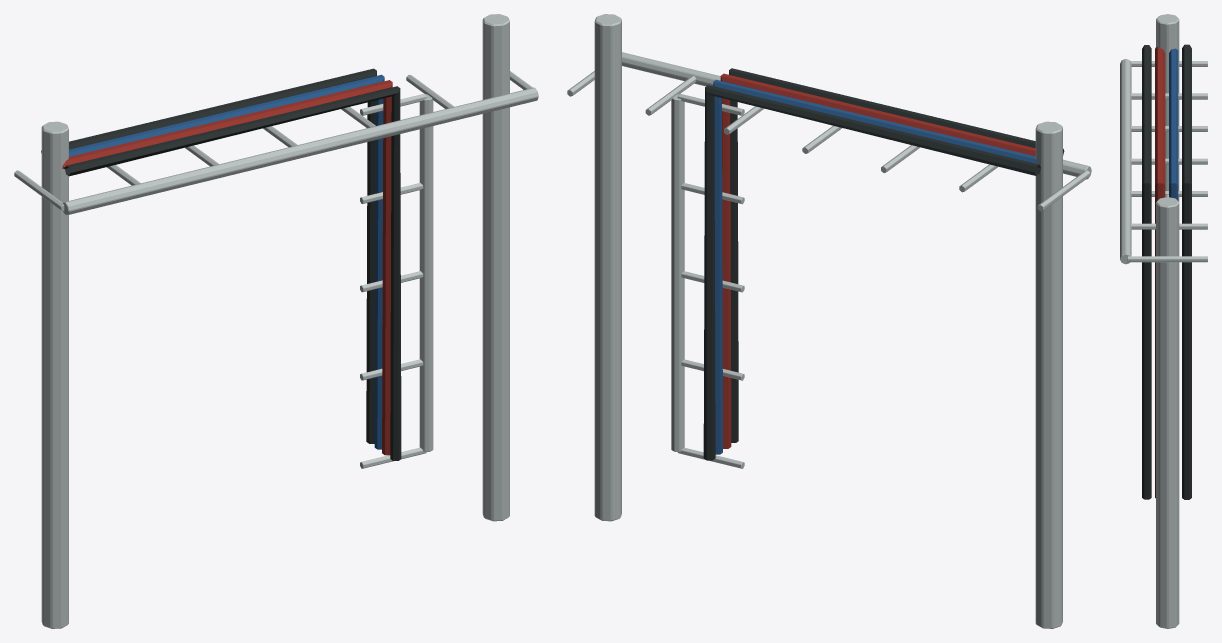
The model's file is runtime.glb.
3 views of the same model, side by side, from view 1: azimuth 30°, elevation 25°; view 2: azimuth 150°, elevation 25°; view 3: azimuth 270°, elevation 25° (orthographic). The views are drawn at different scales.
Parts seen in each view (by area): view 1: reactor-cable-tray-v10_nocol; view 2: reactor-cable-tray-v10_nocol; view 3: reactor-cable-tray-v10_nocol.
Part boxes in pixels (bbox=[...]): reactor-cable-tray-v10_nocol: bbox=[14, 14, 538, 628]; reactor-cable-tray-v10_nocol: bbox=[567, 14, 1091, 628]; reactor-cable-tray-v10_nocol: bbox=[1120, 14, 1207, 628].
Bounding box in the file's own units: 3.47 × 3.46 × 0.6509.
